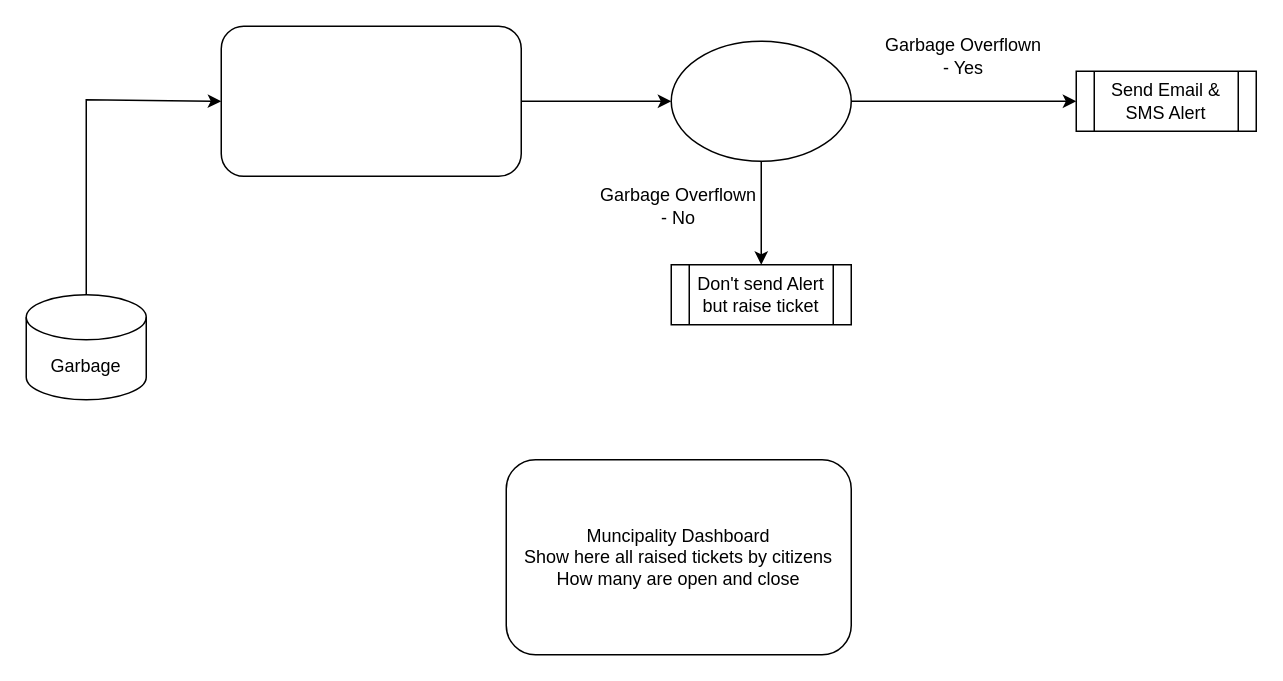
Image size: 1283x681. Some labels were removed from this diagram. Each missing label, with the centre of its shape:
"Detected by CCTV or Uploaded by App by Citizen" belongs at (370,100).
"Model Inference" belongs at (760,100).
